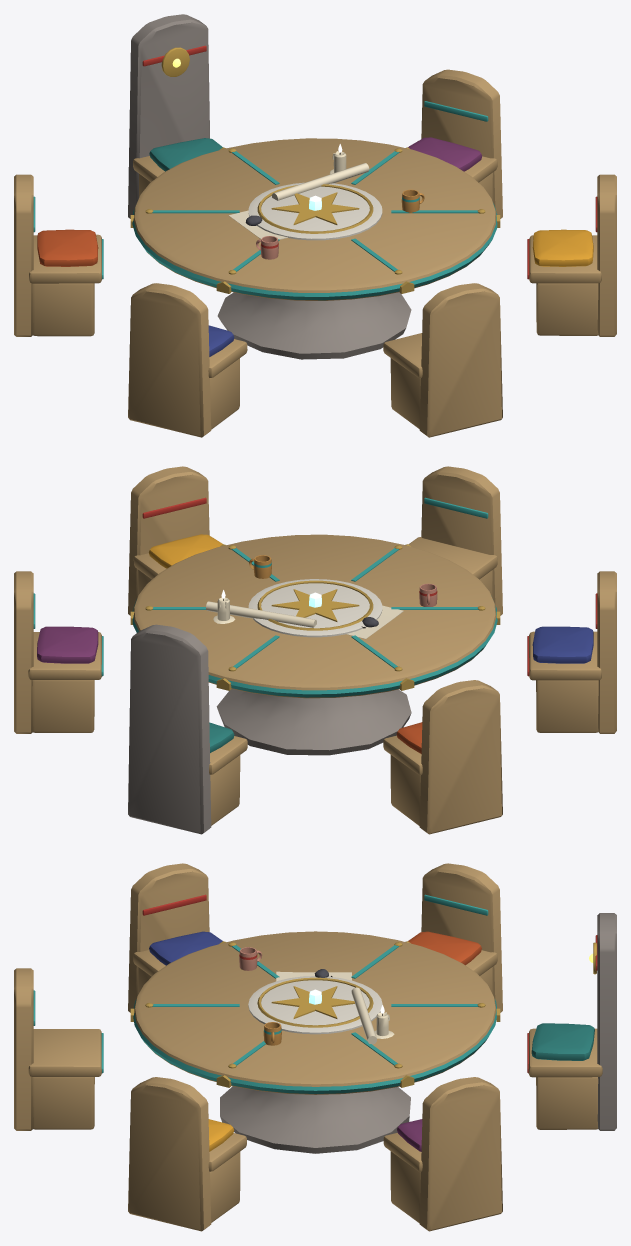
File: deco_council_table.fbx
The picture shows the model from 3 angles, top to bottom: view 1: azimuth 30°, elevation 25°; view 2: azimuth 150°, elevation 25°; view 3: azimuth 270°, elevation 25°; orthographic projection.
Parts seen in each view (by area): view 1: CouncilTable_Seats, CouncilTable_Table, CouncilTable_Emblem, CouncilTable_Props; view 2: CouncilTable_Seats, CouncilTable_Table, CouncilTable_Emblem, CouncilTable_Props; view 3: CouncilTable_Seats, CouncilTable_Table, CouncilTable_Emblem, CouncilTable_Props.
Boxes of the visible parts, x1,y1,x2,y2 form: CouncilTable_Seats: (14,14,616,437); CouncilTable_Table: (130,138,500,359); CouncilTable_Emblem: (145,148,485,274); CouncilTable_Props: (228,144,424,259); CouncilTable_Seats: (14,466,616,834); CouncilTable_Table: (130,534,500,755); CouncilTable_Emblem: (145,545,485,671); CouncilTable_Props: (206,555,437,638); CouncilTable_Seats: (14,863,616,1231); CouncilTable_Table: (130,931,500,1153); CouncilTable_Emblem: (145,942,485,1068); CouncilTable_Props: (239,947,394,1045).
Bounding box in the file's own units: 462 × 175 × 494.
